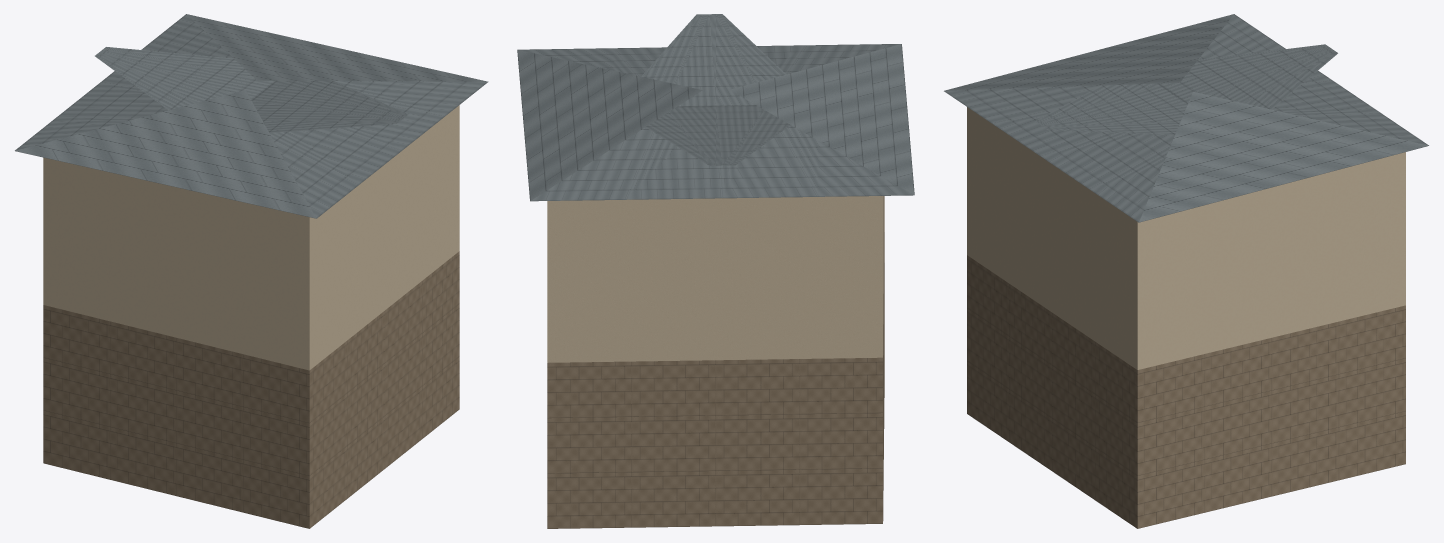
File: bld_c16_26_398.gltf
3 renders of one model, left to right at view 1: azimuth 30°, elevation 25°; view 2: azimuth 150°, elevation 25°; view 3: azimuth 270°, elevation 25°, orthographic. The views are drawn at different scales.
Parts seen in each view (by area): view 1: bld_c16_26_398; view 2: bld_c16_26_398; view 3: bld_c16_26_398.
Part boxes in pixels (x1,y1,x2,y2): bld_c16_26_398: (15,14,488,528); bld_c16_26_398: (517,14,914,528); bld_c16_26_398: (944,14,1428,528).
Size of the model in its own units: 14.38 by 11.3 by 14.15.
Materials: 3 (3 with a texture image).
